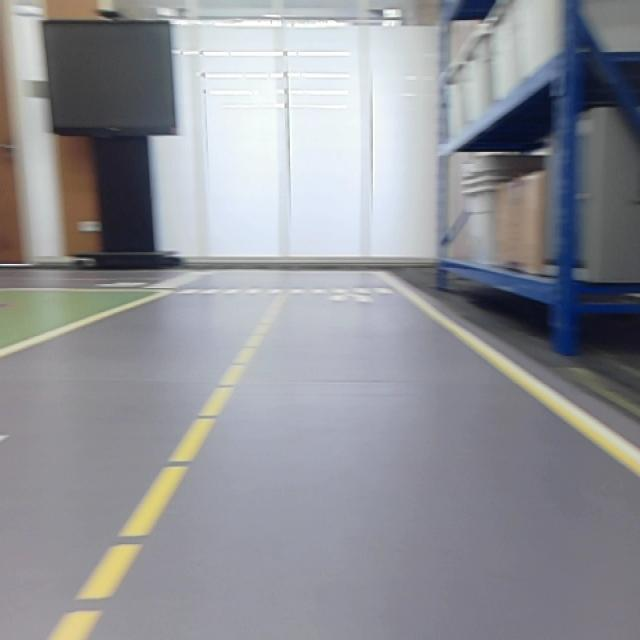left_lane: (49, 292, 282, 640)
right_lane: (379, 272, 640, 476), (1, 291, 166, 359)
